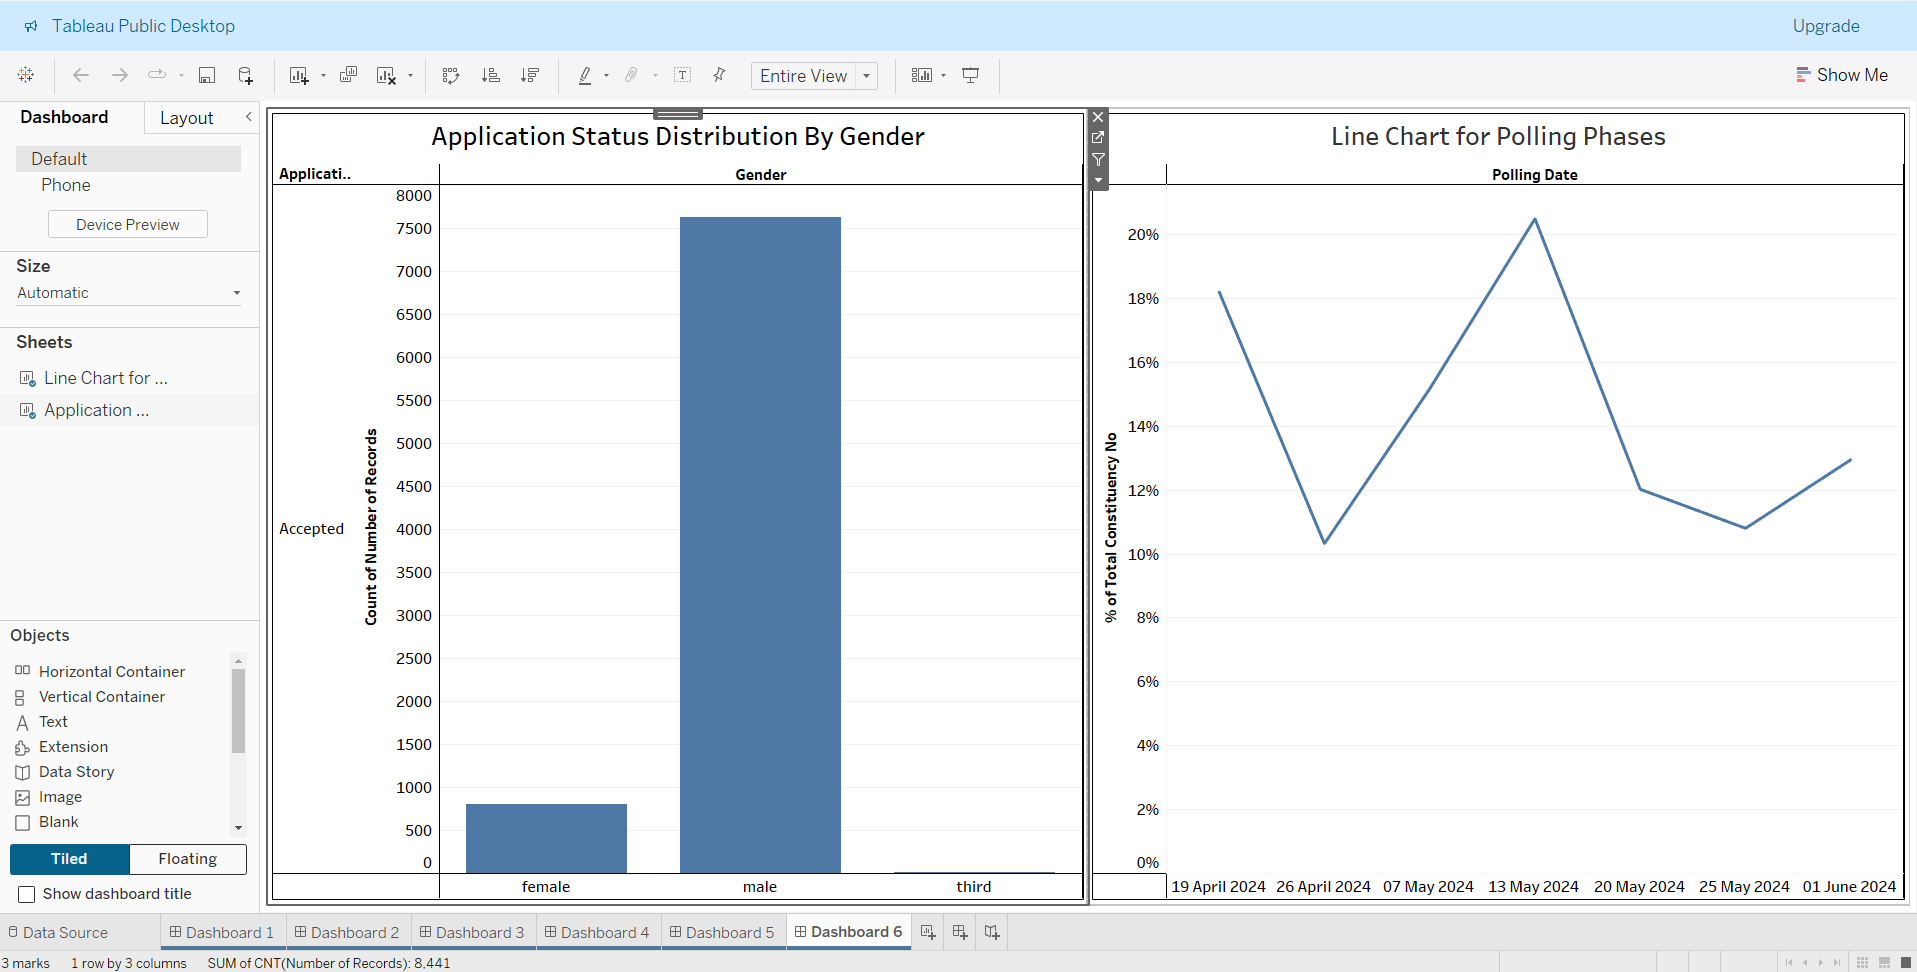

What the dashboard file says about the page in this screenshot:
{"tool":"tableau","page":{"name":"Dashboard 6","canvas":[1000,1000],"units":"permille","ordinal":5},"visuals":[{"type":"worksheet","title":"Application Status Distribution By Gender","mark":"Bar","rows":["Application Status","Calculation_69242879078162438"],"cols":["Gender"],"box":[5,9.9,495,980.3]},{"type":"worksheet","title":"Line Chart for Polling Phases","mark":"Line","rows":["Constituency_No"],"cols":["Polling Date"],"box":[500,9.9,495,980.3]}]}

Visuals, with their boxes on the dashboard's canvas, which has no fixed pixel size, in thousandths of its width and height (x1, y1, x2, y2). These are canvas units, not pixel positions in the 1917x972 screenshot, which may show the page scaled, cropped or inside an application window:
"Application Status Distribution By Gender" worksheet (Bar marks): x1=5 y1=10 x2=500 y2=990
"Line Chart for Polling Phases" worksheet (Line marks): x1=500 y1=10 x2=995 y2=990
